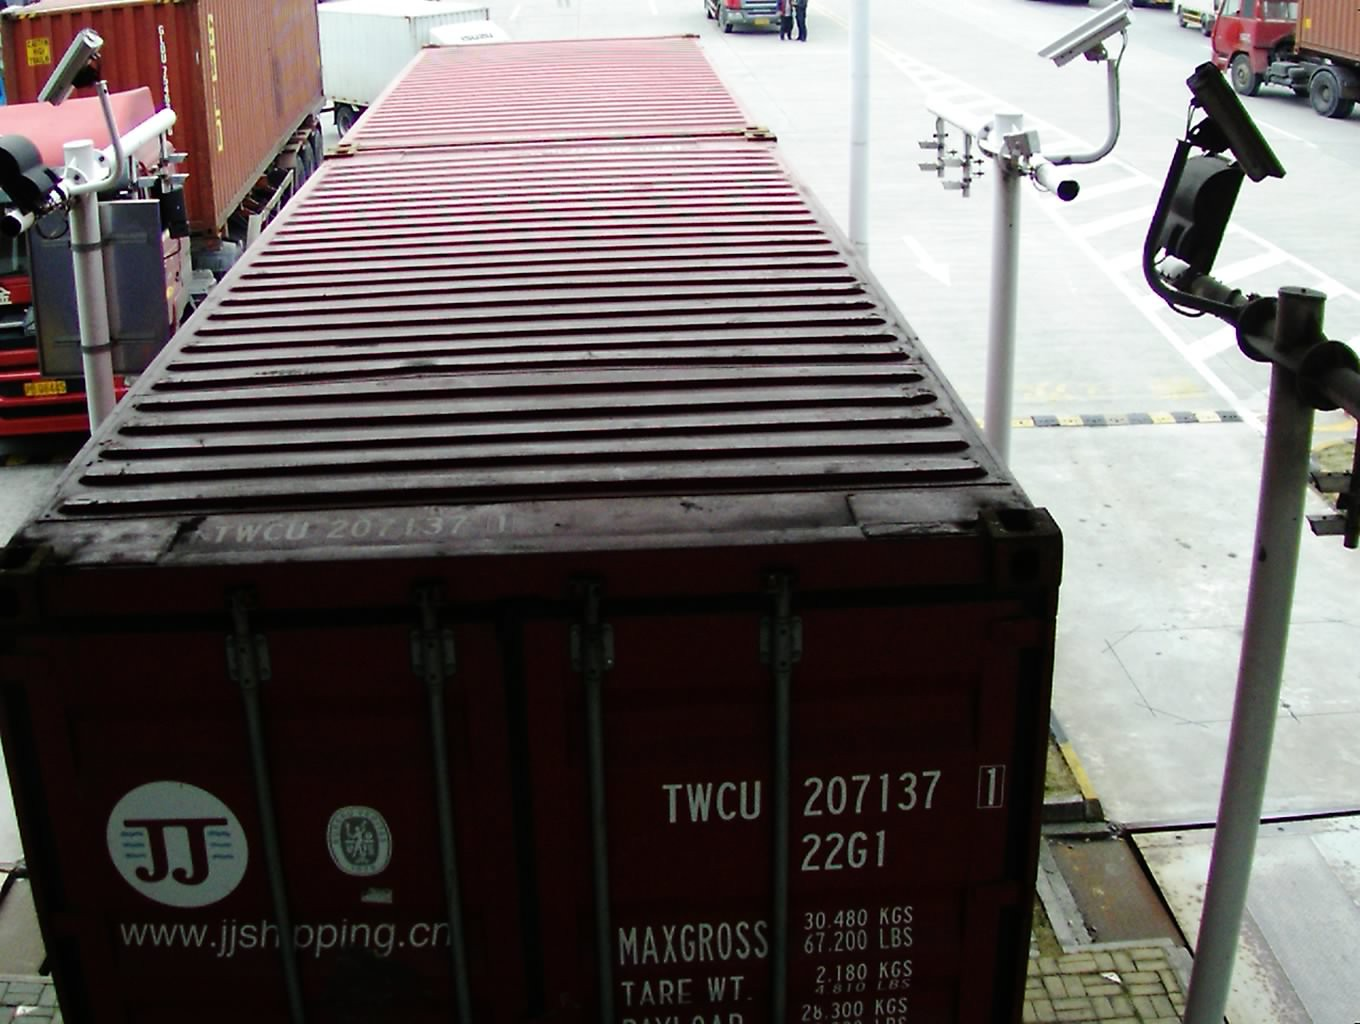words: (800, 769, 949, 819), (652, 771, 768, 831), (797, 829, 893, 872), (975, 762, 1008, 812)
